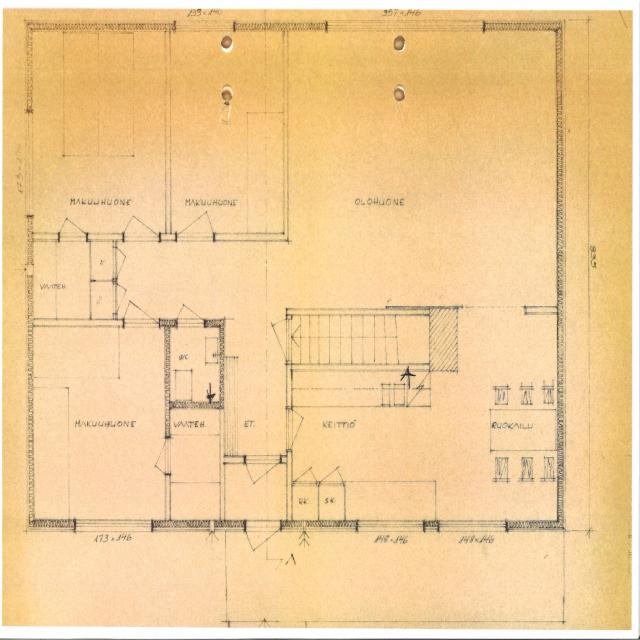door: (176, 182, 213, 242), (123, 182, 159, 242), (244, 456, 280, 514), (245, 521, 280, 580), (123, 270, 159, 326), (256, 318, 292, 361), (286, 408, 322, 450), (59, 194, 86, 241), (138, 437, 170, 475), (177, 283, 203, 326), (113, 284, 138, 313), (114, 247, 138, 277)
